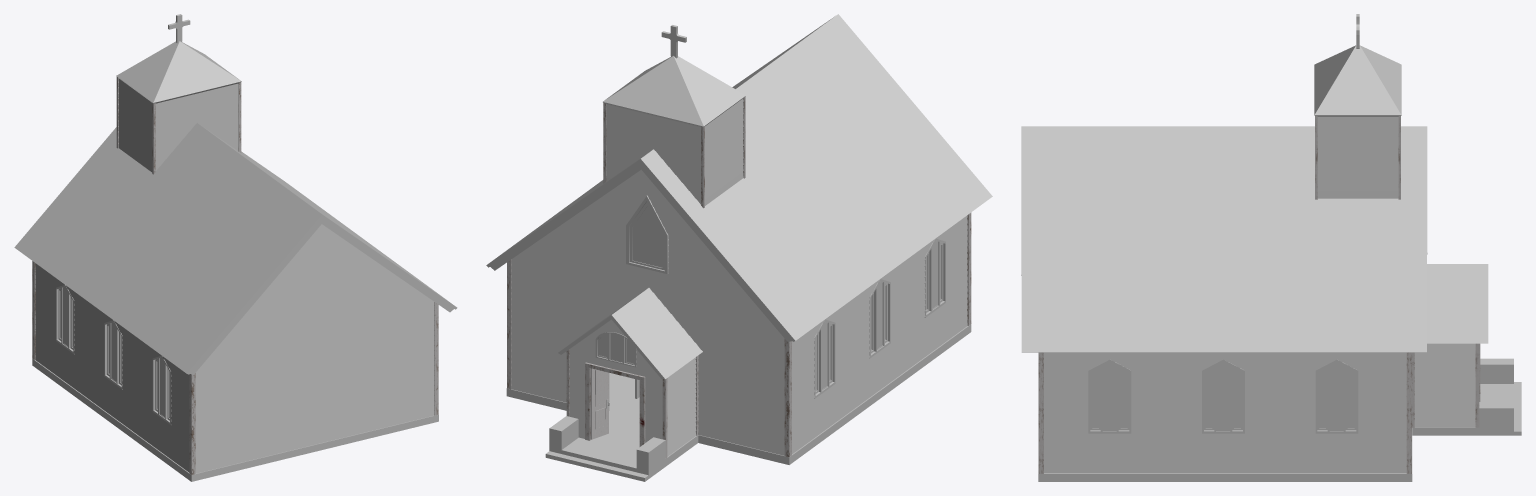
3 renders of one model, left to right at view 1: azimuth 30°, elevation 25°; view 2: azimuth 150°, elevation 25°; view 3: azimuth 270°, elevation 25°, orthographic. The views are drawn at different scales.
Parts seen in each view (by area): view 1: Panels Siding, Roof 1, House Top.001, Roof 3.001, Window.001, Floor, Beam 1, Beam 4; view 2: Roof 1, Panels Siding, Floor, House Top.001, Panels 2, Roof 3.001, Roof 4, Window.001, Window, Beam 1, Door.001, DoorFrame (+3 smaller); view 3: Roof 1, Panels Siding, Window.001, Floor, House Top.001, Roof 3.001, Panels 2, Roof 4, Beam 1.
Part boxes in pixels (x1=…): Panels Siding: x1=35, y1=224, x2=434, y2=473; Roof 1: x1=14, y1=123, x2=457, y2=374; House Top.001: x1=118, y1=78, x2=238, y2=172; Roof 3.001: x1=116, y1=41, x2=241, y2=103; Window.001: x1=56, y1=285, x2=171, y2=424; Floor: x1=32, y1=358, x2=438, y2=481; Beam 1: x1=32, y1=261, x2=438, y2=474; Beam 4: x1=116, y1=77, x2=241, y2=174; Roof 1: x1=486, y1=14, x2=992, y2=342; Panels Siding: x1=511, y1=169, x2=967, y2=455; Floor: x1=506, y1=324, x2=971, y2=481; House Top.001: x1=606, y1=98, x2=743, y2=205; Panels 2: x1=569, y1=319, x2=696, y2=456; Roof 3.001: x1=603, y1=56, x2=745, y2=126; Roof 4: x1=558, y1=288, x2=702, y2=379; Window.001: x1=814, y1=238, x2=945, y2=398; Window: x1=626, y1=195, x2=668, y2=274; Beam 1: x1=507, y1=212, x2=971, y2=456; Door.001: x1=590, y1=368, x2=608, y2=439; DoorFrame: x1=585, y1=362, x2=645, y2=446; Roof 1: x1=1021, y1=126, x2=1427, y2=352; Panels Siding: x1=1044, y1=352, x2=1406, y2=473; Window.001: x1=1088, y1=359, x2=1358, y2=433; Floor: x1=1038, y1=353, x2=1521, y2=481; House Top.001: x1=1317, y1=116, x2=1398, y2=198; Roof 3.001: x1=1314, y1=45, x2=1401, y2=115; Panels 2: x1=1414, y1=343, x2=1475, y2=427; Roof 4: x1=1427, y1=264, x2=1488, y2=343; Beam 1: x1=1038, y1=352, x2=1411, y2=473.
Size of the model in its own units: 8.88 by 10.57 by 12.12.
